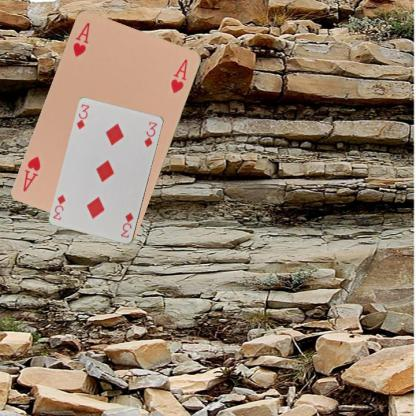3d: (74, 102, 91, 131), (118, 210, 134, 240)
Ah: (70, 19, 91, 58)
